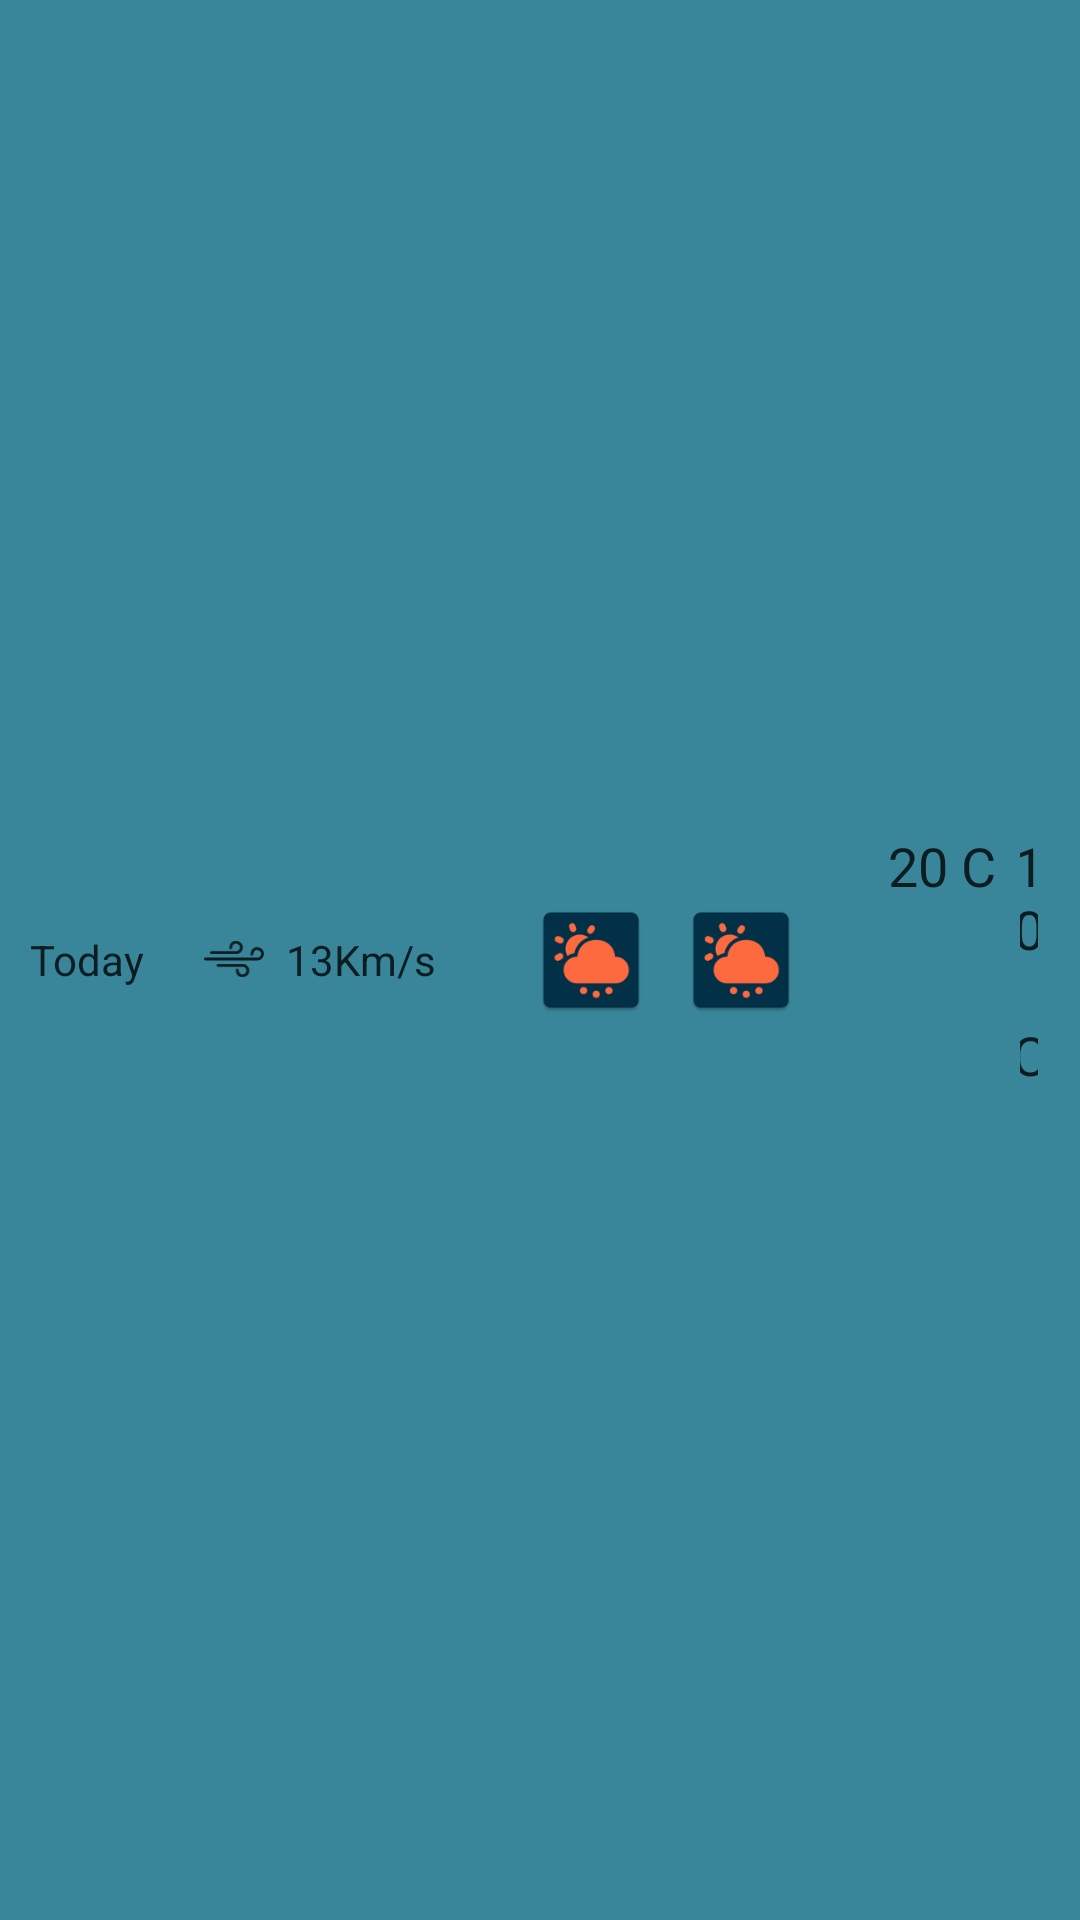

Icons on this 1080x1920 Android screen, each with the point to tap as point (x, y):
wind: point (234, 959)
